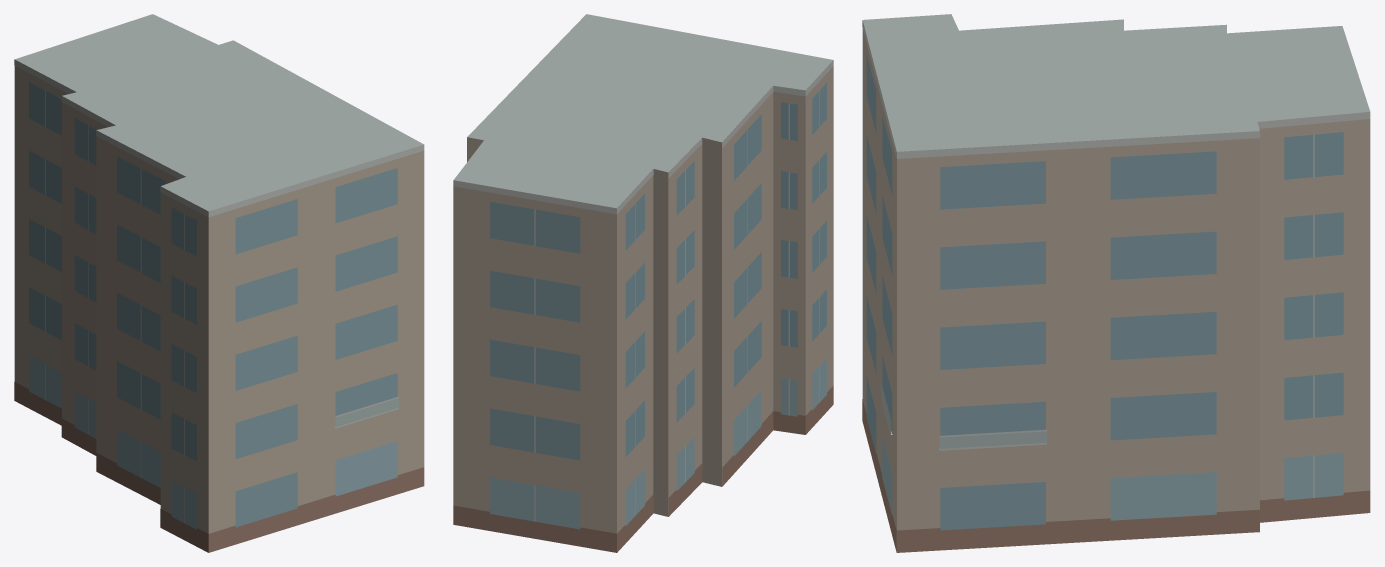
Rendered from survey-upis-32597052.glb.
3 views of the same model, side by side, from view 1: azimuth 30°, elevation 25°; view 2: azimuth 150°, elevation 25°; view 3: azimuth 270°, elevation 25° (orthographic). The views are drawn at different scales.
Visible parts, largest first — view 1: survey-upis-32597052.tmp; view 2: survey-upis-32597052.tmp; view 3: survey-upis-32597052.tmp.
Boxes of the visible parts, x1,y1,x2,y2 form: survey-upis-32597052.tmp: (14, 14, 424, 552); survey-upis-32597052.tmp: (453, 14, 833, 552); survey-upis-32597052.tmp: (862, 14, 1370, 552).
Bounding box in the file's own units: 10.22 × 13.85 × 15.91.
